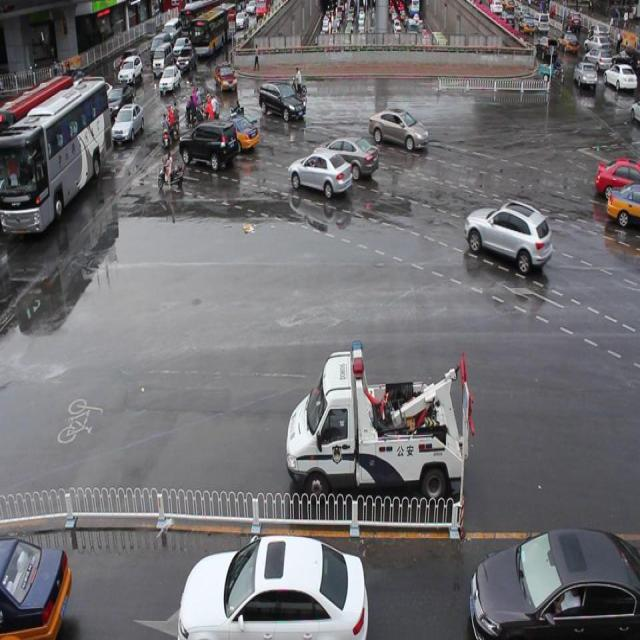bus: (285, 338, 464, 498)
car: (463, 197, 550, 278), (288, 148, 352, 199), (318, 133, 378, 182), (368, 105, 427, 153), (593, 156, 640, 204), (258, 80, 306, 124), (212, 114, 259, 152), (605, 180, 640, 228), (214, 61, 238, 94)
truck: (180, 119, 238, 170)
